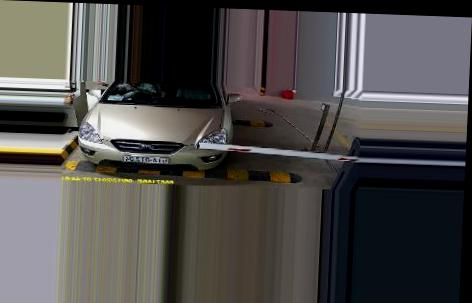License_Plate: (122, 154, 168, 165)
